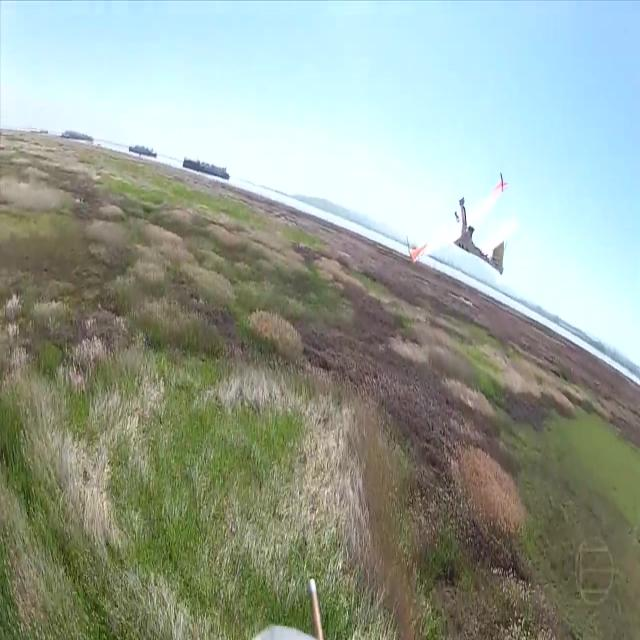iha: (436, 203, 485, 244)
